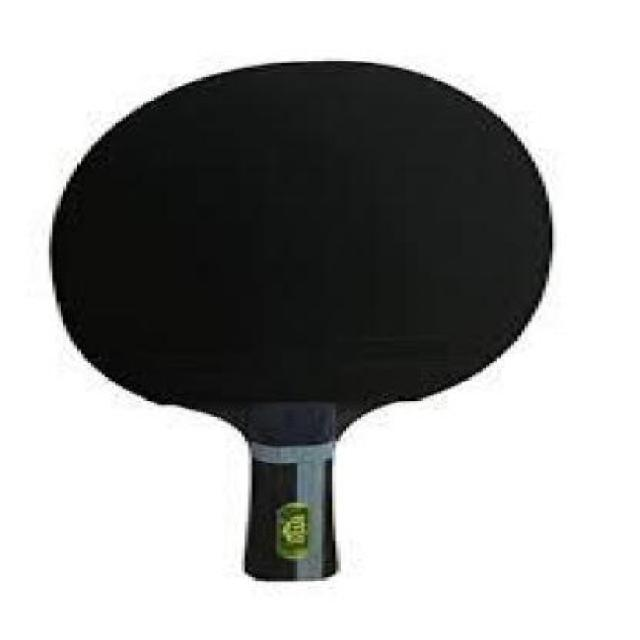table_tennis_racket: (28, 50, 558, 421)
